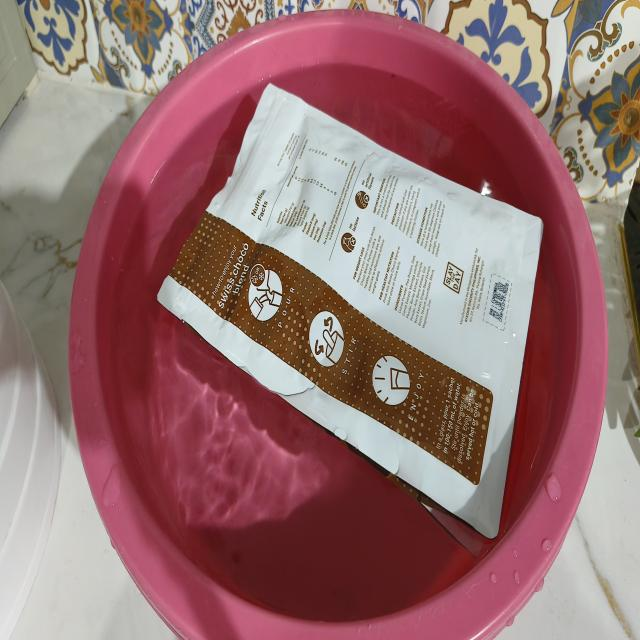Plastic Wrapper: (146, 42, 556, 575)
